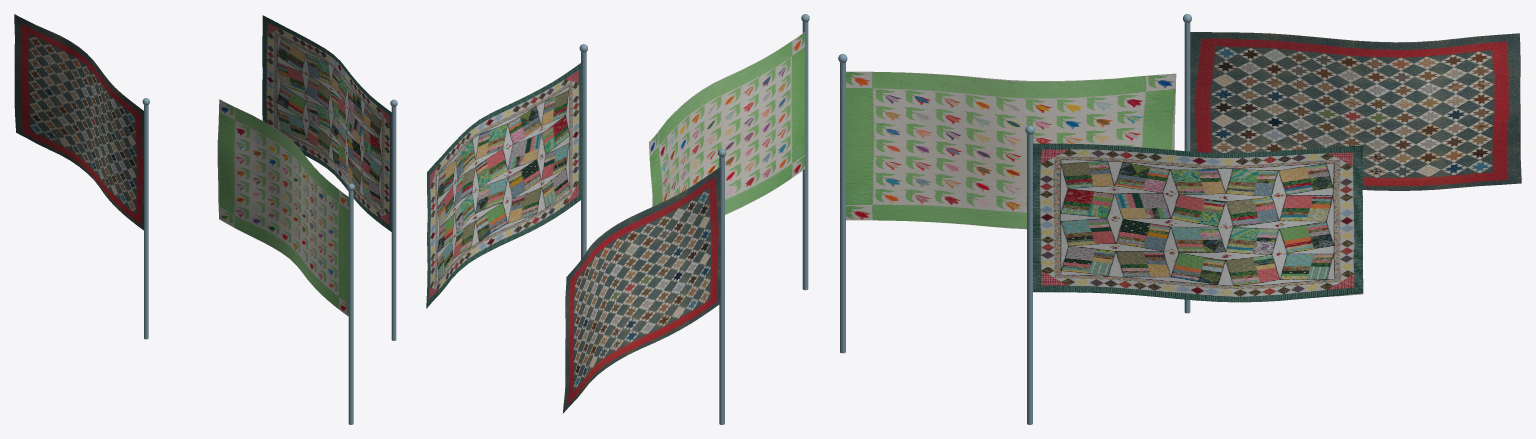
File: three_flag_animation_03.glb
3 renders of one model, left to right at view 1: azimuth 30°, elevation 25°; view 2: azimuth 150°, elevation 25°; view 3: azimuth 270°, elevation 25°, orthographic. The views are drawn at different scales.
Parts seen in each view (by area): view 1: Plane.001, Plane.002, Plane, Cylinder.001, Cylinder, Cylinder.002; view 2: Plane, Plane.002, Plane.001, Cylinder.002, Cylinder.001, Cylinder; view 3: Plane, Plane.002, Plane.001, Cylinder, Cylinder.001, Cylinder.002.
Boxes of the visible parts, <box> form: Plane.001: <box>217,99,348,316</box>; Plane.002: <box>14,14,143,230</box>; Plane: <box>262,15,391,231</box>; Cylinder.001: <box>347,183,354,424</box>; Cylinder: <box>390,99,397,340</box>; Cylinder.002: <box>142,98,149,339</box>; Plane: <box>426,62,582,308</box>; Plane.002: <box>562,166,720,413</box>; Plane.001: <box>648,32,804,214</box>; Cylinder.002: <box>718,148,726,424</box>; Cylinder.001: <box>801,14,809,290</box>; Cylinder: <box>579,44,587,259</box>; Plane: <box>1033,143,1363,302</box>; Plane.002: <box>1190,32,1521,190</box>; Plane.001: <box>846,71,1176,229</box>; Cylinder: <box>1025,125,1034,424</box>; Cylinder.001: <box>838,54,847,353</box>; Cylinder.002: <box>1183,14,1191,313</box>.
Bounding box in the file's own units: 3.57 × 4.01 × 8.33.
6 materials, 3 textured.
